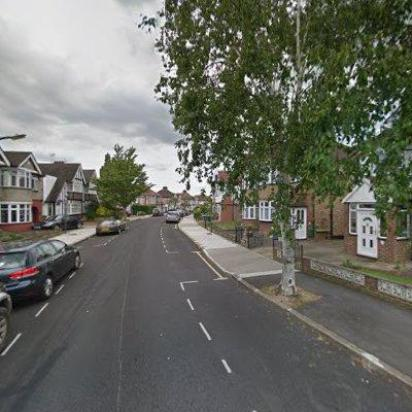stationary-car-offstreet: (31, 212, 83, 230), (126, 206, 132, 216)
stationary-car-onstreet: (0, 236, 82, 306), (0, 282, 14, 352), (96, 218, 127, 234), (166, 210, 180, 224), (152, 207, 164, 219)
